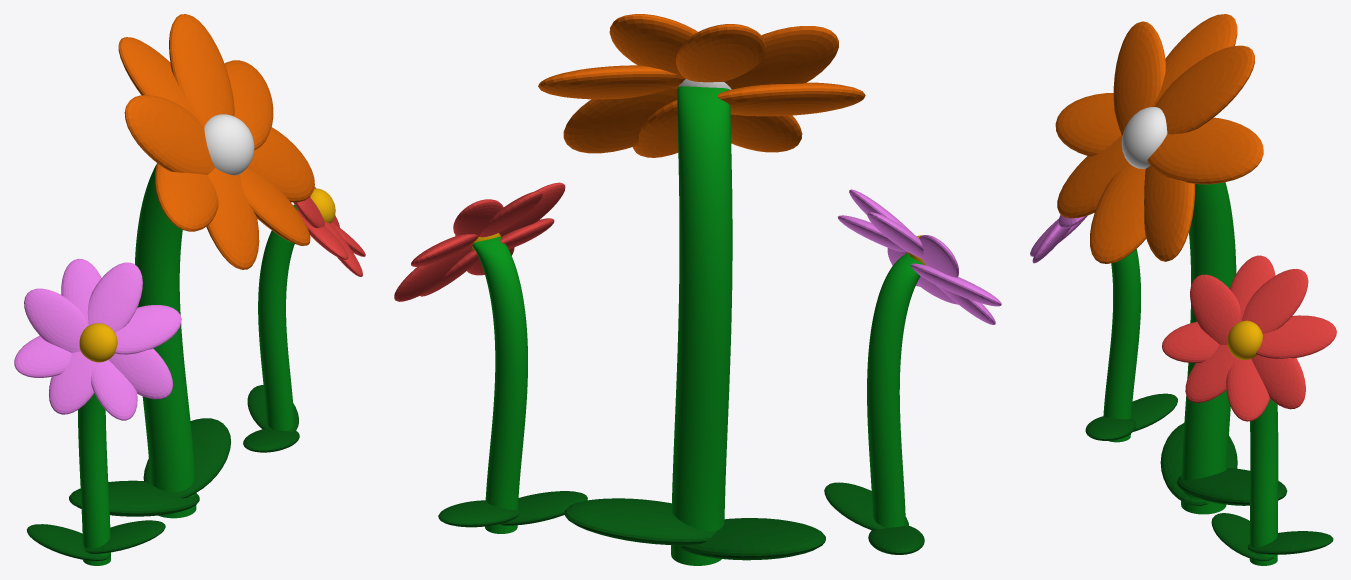
File: flowers.fbx
3 views of the same model, side by side, from view 1: azimuth 30°, elevation 25°; view 2: azimuth 150°, elevation 25°; view 3: azimuth 270°, elevation 25° (orthographic). The views are drawn at different scales.
Parts seen in each view (by area): view 1: NurbsPath, NurbsPath.002, Sphere.005, Sphere.003, NurbsPath.001, Sphere.006, Sphere.007, Sphere.008, Sphere.018, Sphere.016, Sphere.004, Sphere.009 (+19 smaller); view 2: NurbsPath, NurbsPath.002, NurbsPath.001, Sphere.001, Sphere.008, Sphere, Sphere.005, Sphere.004, Sphere.007, Sphere.010, Sphere.003, Sphere.006 (+15 smaller); view 3: NurbsPath, Sphere.010, Sphere.003, NurbsPath.001, Sphere.009, NurbsPath.002, Sphere.005, Sphere.008, Sphere.007, Sphere.006, Sphere.025, Sphere.004 (+16 smaller).
Boxes of the visible parts, <box> form: NurbsPath: <box>135,164,196,518</box>; NurbsPath.002: <box>258,205,297,430</box>; Sphere.005: <box>124,95,214,174</box>; Sphere.003: <box>169,14,234,125</box>; NurbsPath.001: <box>77,393,110,565</box>; Sphere.006: <box>206,168,259,269</box>; Sphere.007: <box>155,163,218,231</box>; Sphere.008: <box>247,127,314,202</box>; Sphere.018: <box>87,262,142,332</box>; Sphere.016: <box>24,288,86,352</box>; Sphere.004: <box>118,37,204,128</box>; Sphere.009: <box>240,168,310,245</box>; NurbsPath: <box>671,86,732,565</box>; NurbsPath.002: <box>472,236,527,533</box>; NurbsPath.001: <box>867,253,923,527</box>; Sphere.001: <box>564,498,716,545</box>; Sphere.008: <box>563,85,678,153</box>; Sphere: <box>681,518,825,560</box>; Sphere.005: <box>724,26,838,89</box>; Sphere.004: <box>676,24,765,82</box>; Sphere.007: <box>717,82,865,116</box>; Sphere.010: <box>538,65,685,99</box>; Sphere.003: <box>609,14,697,79</box>; Sphere.006: <box>730,114,802,152</box>; NurbsPath: <box>1181,182,1236,514</box>; Sphere.010: <box>1147,117,1263,184</box>; Sphere.003: <box>1154,45,1254,134</box>; NurbsPath.001: <box>1103,249,1140,442</box>; Sphere.009: <box>1090,166,1146,263</box>; NurbsPath.002: <box>1249,399,1278,565</box>; Sphere.005: <box>1113,21,1165,135</box>; Sphere.008: <box>1144,165,1194,261</box>; Sphere.007: <box>1055,93,1121,156</box>; Sphere.006: <box>1057,135,1132,218</box>; Sphere.025: <box>1241,269,1308,333</box>; Sphere.004: <box>1151,14,1237,106</box>.
Size of the model in its own units: 66.01 by 70.49 by 41.62.
